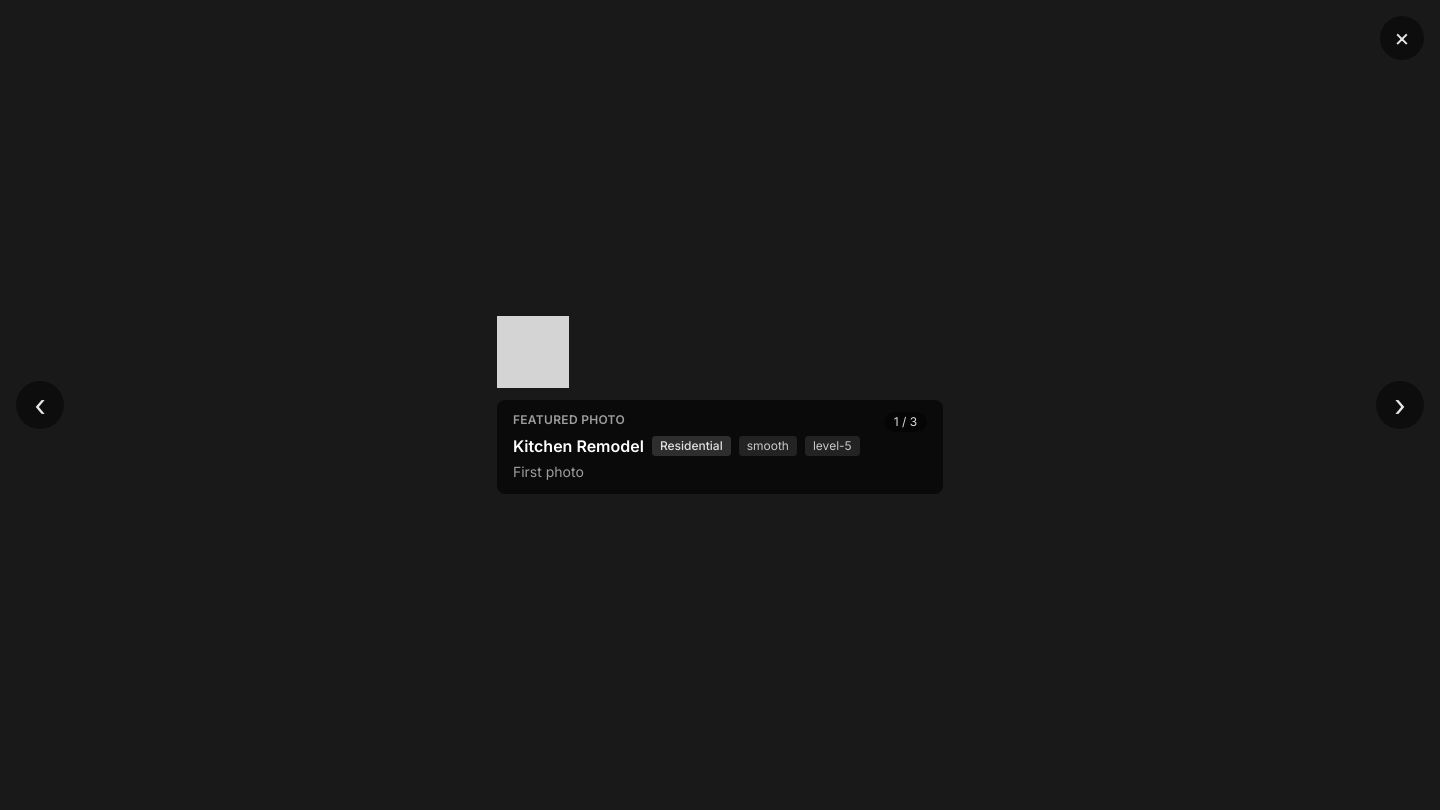
Test case: LightboxModal › project context › marks the featured image and numbers the gallery photos
Expected: the text "Featured photo" is shown, [513,412,625,427]
Click the button named "Next image" at (1400, 405), box [1376,381,1424,429]
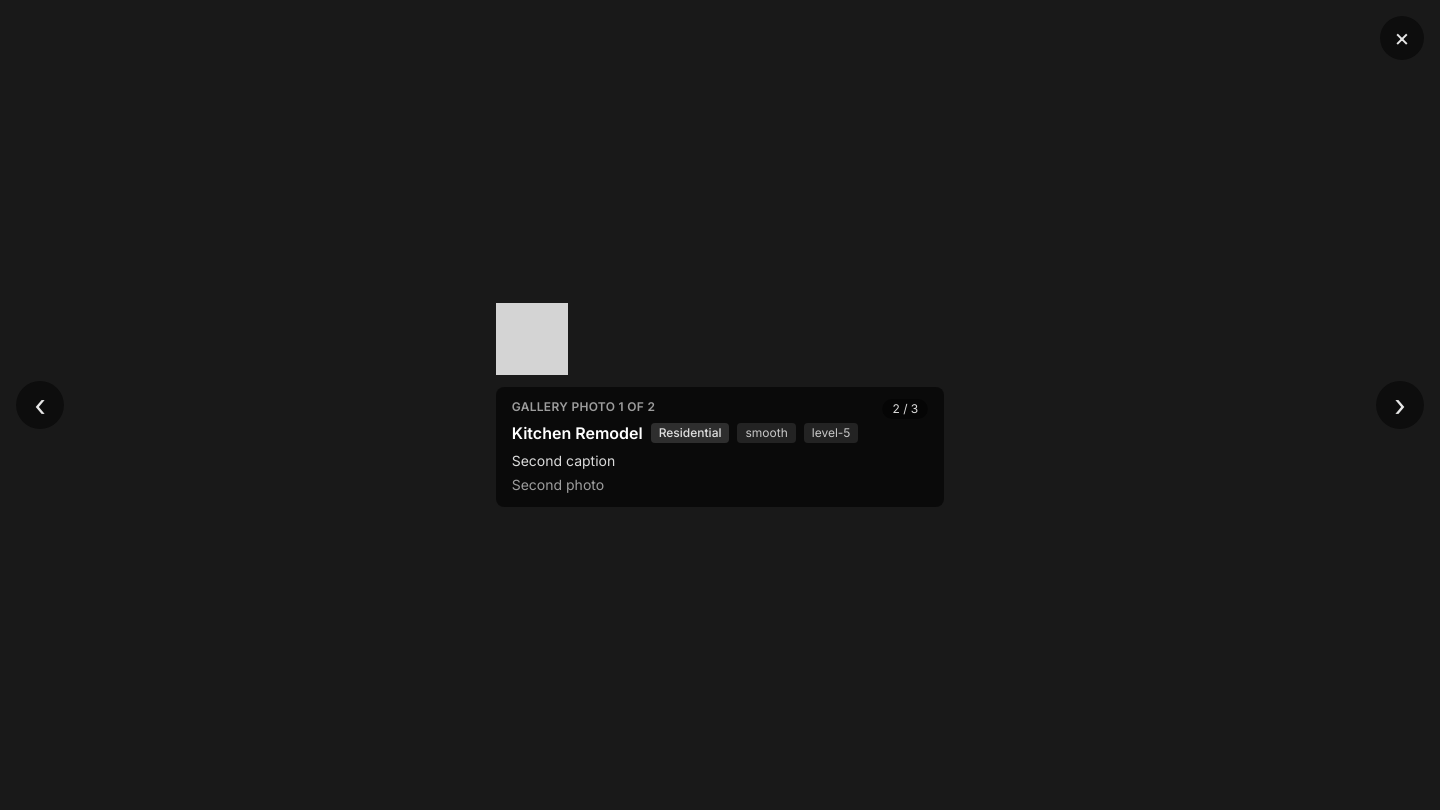
Now the text "Gallery photo 1 of 2" is shown, box [512,399,655,414]
Click the button named "Next image" at (1400, 405), box [1376,381,1424,429]
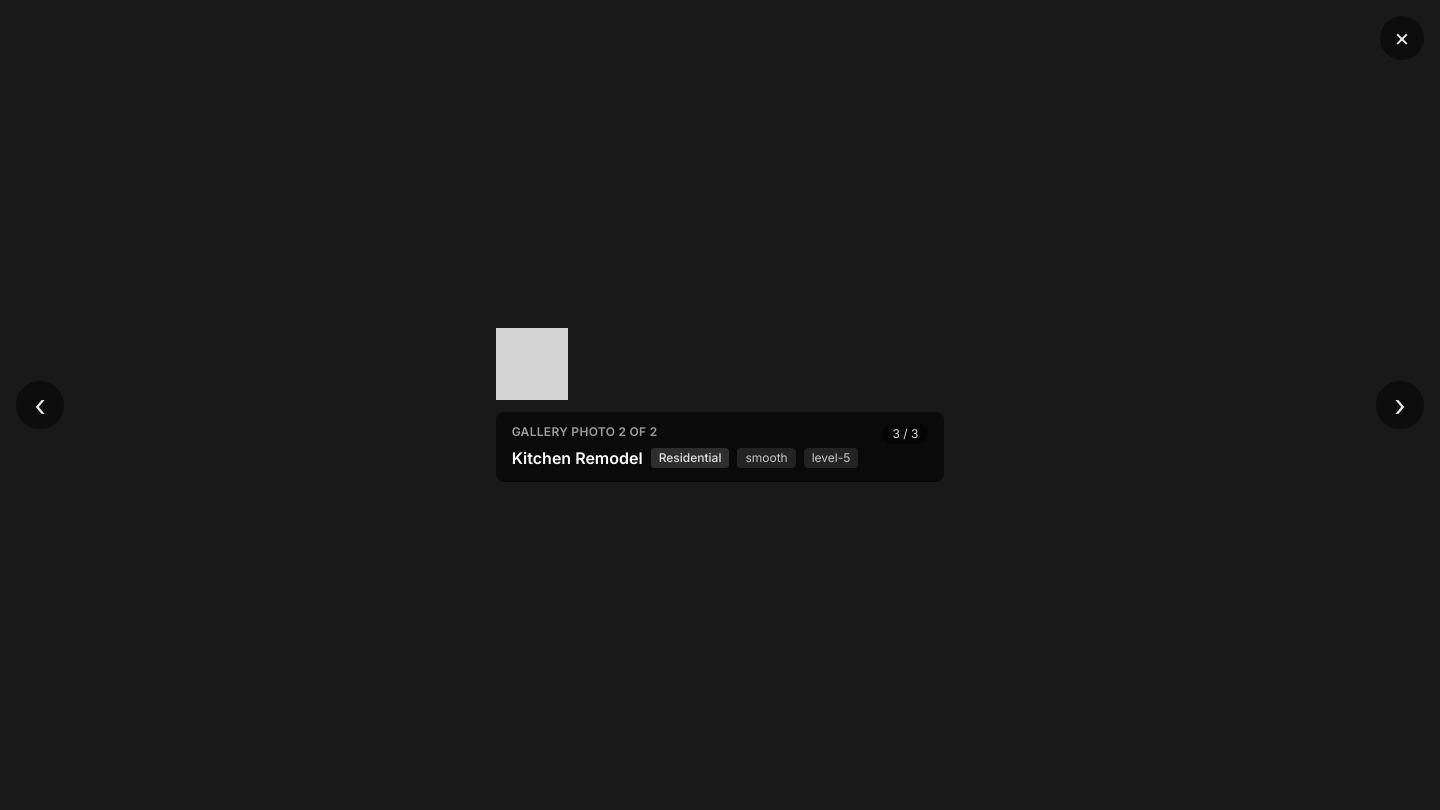
Now the text "Gallery photo 2 of 2" is shown, box [512,424,658,439]
